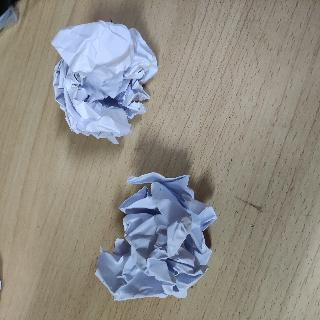8/可回收垃圾/纸: (93, 170, 218, 303), (49, 19, 159, 146)
